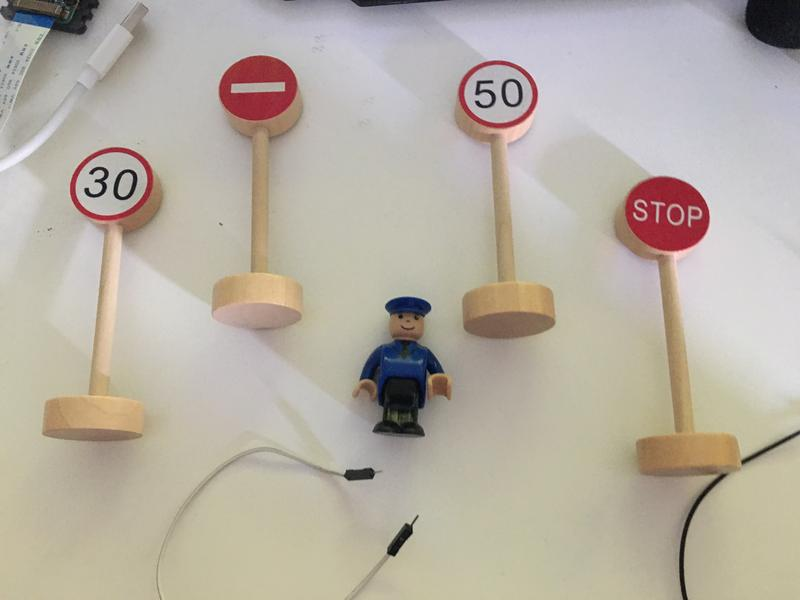Traffic_Sign_30: (70, 148, 153, 219)
Traffic_Sign_50: (458, 61, 539, 127)
Traffic_Sign_No_Entry: (220, 56, 296, 121)
Traffic_Sign_Stop: (626, 177, 710, 253)
person: (352, 295, 453, 439)
